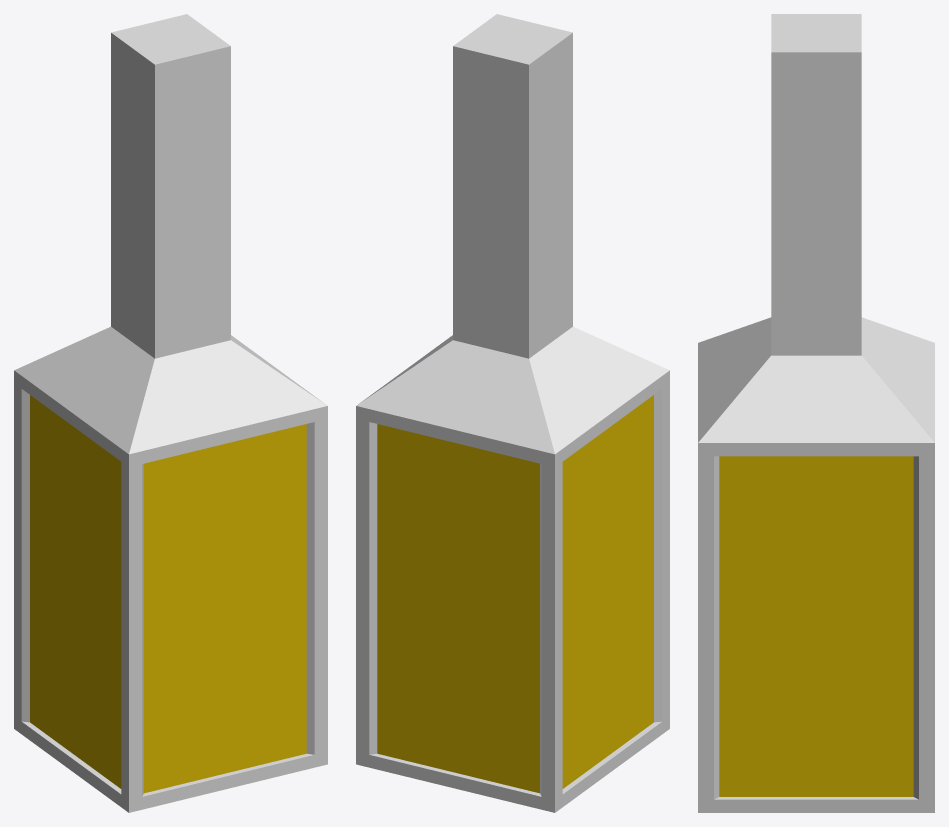
The model's file is stupid low quality lamp.fbx.
The picture shows the model from 3 angles, left to right: view 1: azimuth 30°, elevation 25°; view 2: azimuth 150°, elevation 25°; view 3: azimuth 270°, elevation 25°; orthographic projection. The views are drawn at different scales.
Parts seen in each view (by area): view 1: Cube; view 2: Cube; view 3: Cube.
Boxes of the visible parts, x1,y1,x2,y2 form: Cube: (14,14,327,812); Cube: (356,14,669,812); Cube: (698,14,934,812).
Size of the model in its own units: 116 by 395 by 116.
